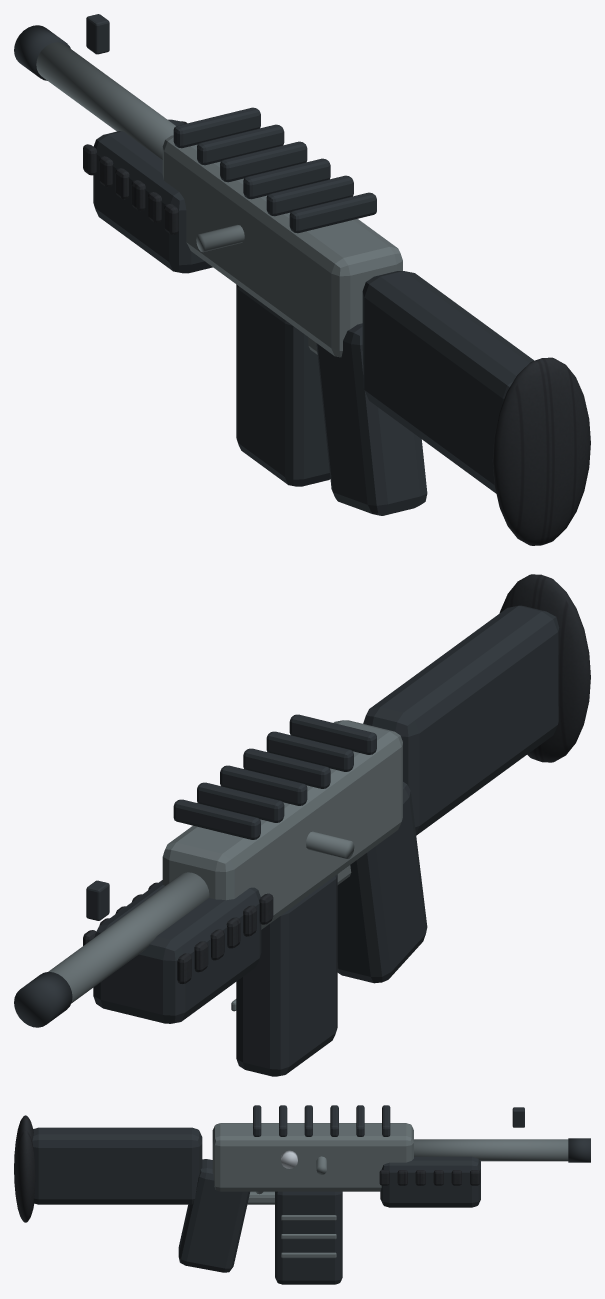
Rendered from mc_carbine.glb.
3 renders of one model, top to bottom at view 1: azimuth 30°, elevation 25°; view 2: azimuth 150°, elevation 25°; view 3: azimuth 270°, elevation 25°, orthographic. The views are drawn at different scales.
Visible parts, largest first — view 1: mc_carbine__Geometry; view 2: mc_carbine__Geometry; view 3: mc_carbine__Geometry.
Part boxes in pixels (x1,y1,x2,y2): mc_carbine__Geometry: (14, 14, 590, 545); mc_carbine__Geometry: (14, 574, 590, 1076); mc_carbine__Geometry: (14, 1105, 590, 1284).
Bounding box in the file's own units: 0.143 × 0.294 × 0.8943.
4 materials, 1 textured.
